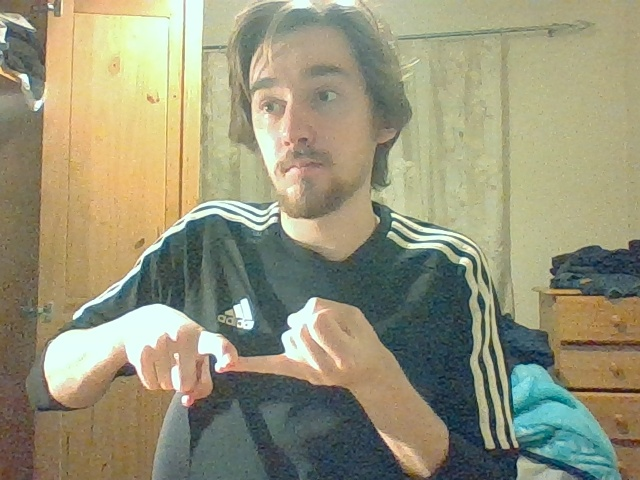step: (147, 297, 372, 407)
